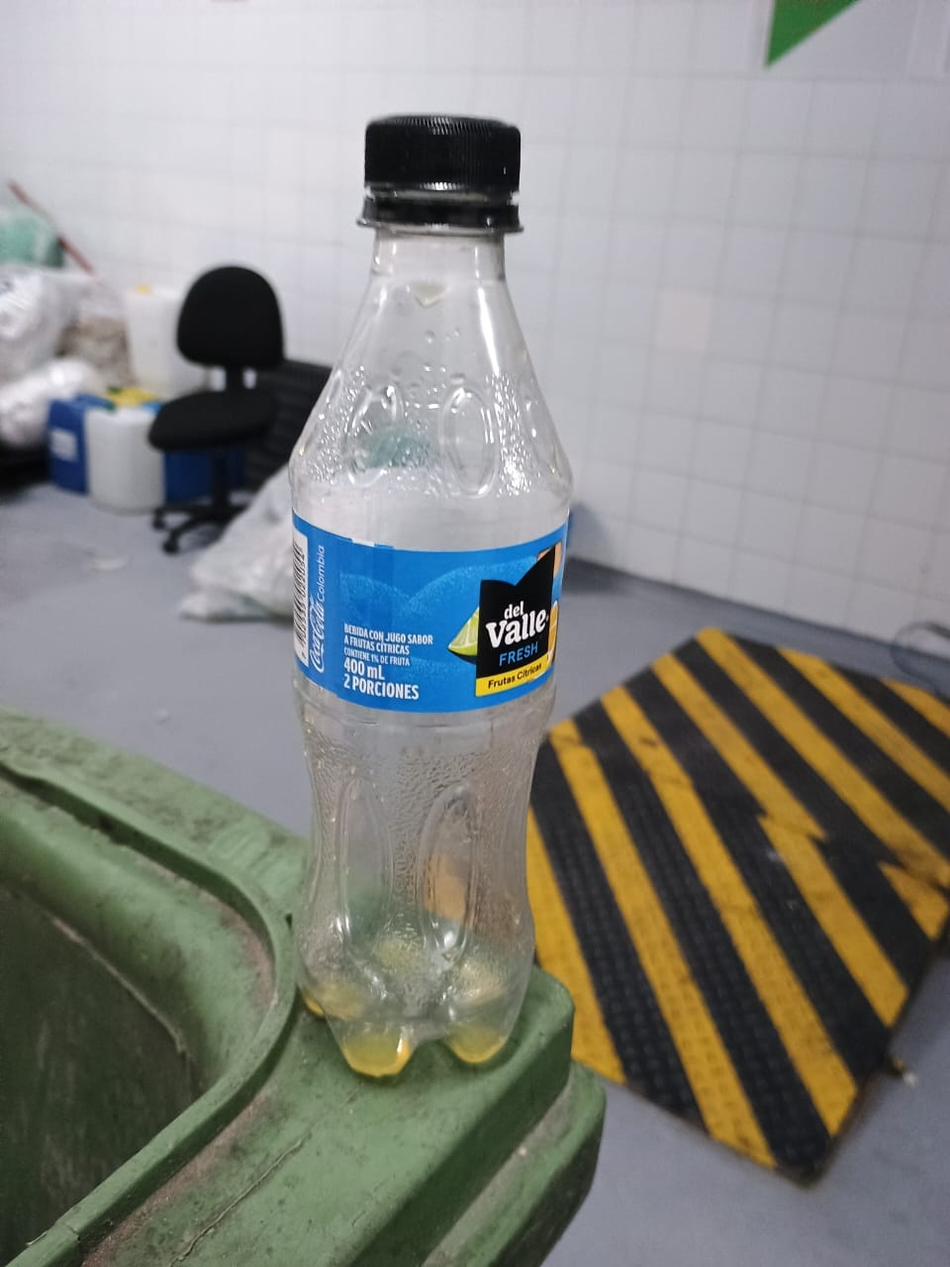Plastico: (288, 115, 571, 1085)
